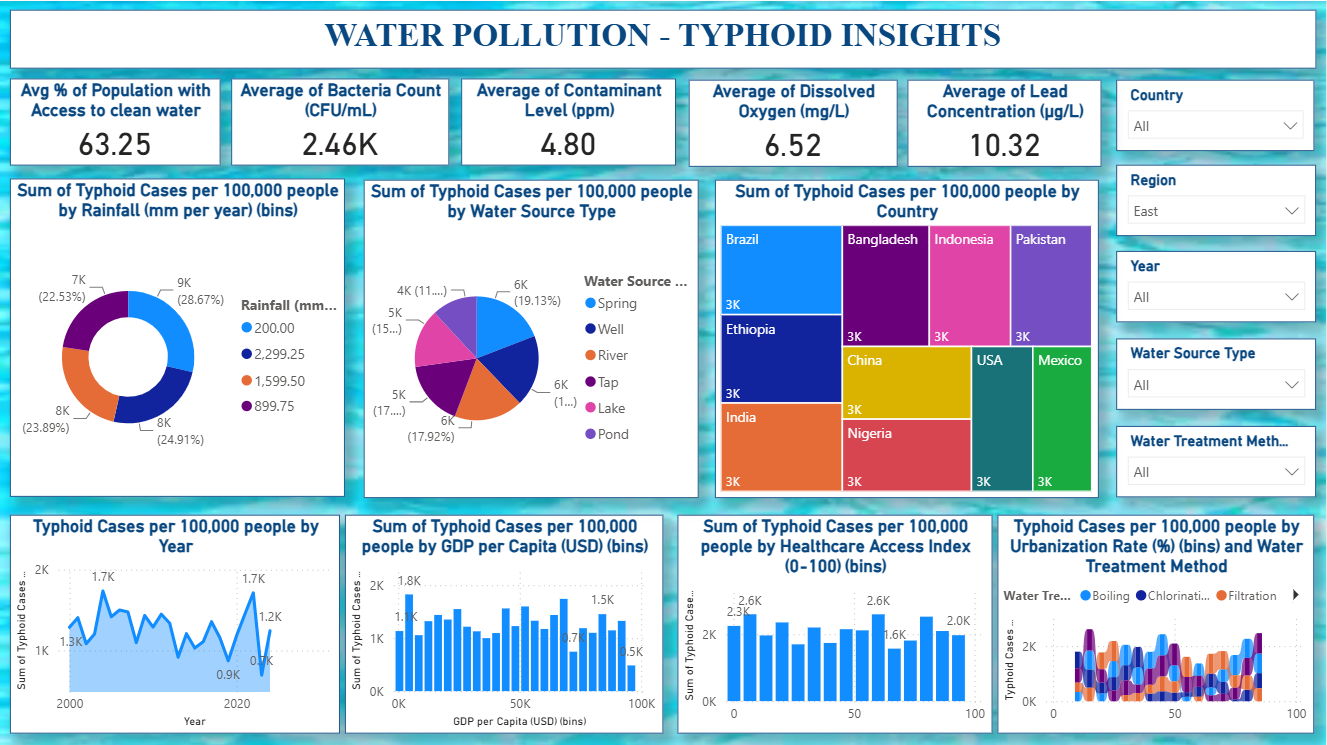

What the dashboard file says about the page in this screenshot:
{"tool":"powerbi","page":{"name":"Typhoid Cases Dashboard","canvas":[1280,720],"ordinal":0},"visuals":[{"type":"textbox","box":[9.7,8.4,1260.7,56.7],"z":0},{"type":"areaChart","title":"Typhoid Cases per 100,000 people by Year","fields":{"Category":["water_pollution_disease.Year"],"Y":["Sum(water_pollution_disease.Typhoid Cases per 100,000 people)"]},"box":[10,496.2,318.8,211.2],"z":1000},{"type":"slicer","fields":{"Values":["water_pollution_disease.Country"]},"box":[1077.1,75.7,191.4,68.6],"z":2000},{"type":"slicer","fields":{"Values":["water_pollution_disease.Region"]},"box":[1077.1,158.6,192.9,68.6],"z":3000},{"type":"card","title":"Avg % of Population with Access to clean water","fields":{"Values":["Avg(water_pollution_disease.Access to Clean Water (% of Population))"]},"box":[10,74.3,202.9,84.3],"z":4000},{"type":"card","title":"Average of Bacteria Count (CFU/mL)","fields":{"Values":["Avg(water_pollution_disease.Bacteria Count (CFU/mL))"]},"box":[222.9,74.3,210,84.3],"z":5000},{"type":"card","title":" Average of Contaminant Level (ppm)","fields":{"Values":["Avg(water_pollution_disease.Contaminant Level (ppm))"]},"box":[445.7,74.3,207.1,84.3],"z":6000},{"type":"slicer","fields":{"Values":["water_pollution_disease.Year"]},"box":[1077.1,241.4,192.9,68.6],"z":7000},{"type":"slicer","fields":{"Values":["water_pollution_disease.Water Source Type"]},"box":[1077.1,325.7,192.9,68.6],"z":8000},{"type":"slicer","fields":{"Values":["water_pollution_disease.Water Treatment Method"]},"box":[1077.1,410,192.9,68.6],"z":9000},{"type":"card","title":"Average of Dissolved Oxygen (mg/L)","fields":{"Values":["Avg(water_pollution_disease.Dissolved Oxygen (mg/L))"]},"box":[664.3,75.7,201.4,84.3],"z":10000},{"type":"card","title":"Average of Lead Concentration (µg/L)","fields":{"Values":["Avg(water_pollution_disease.Lead Concentration (µg/L))"]},"box":[875.7,75.7,187.1,84.3],"z":11000},{"type":"columnChart","fields":{"Category":["water_pollution_disease.GDP per Capita (USD) (bins)"],"Y":["Sum(water_pollution_disease.Typhoid Cases per 100,000 people)"]},"box":[332.9,495.7,307.1,211.4],"z":12000},{"type":"columnChart","fields":{"Y":["Sum(water_pollution_disease.Typhoid Cases per 100,000 people)"],"Category":["water_pollution_disease.Healthcare Access Index (0-100) (bins)"]},"box":[653.8,496.2,303.8,211.2],"z":13000},{"type":"ribbonChart","fields":{"Y":["Sum(water_pollution_disease.Typhoid Cases per 100,000 people)"],"Category":["water_pollution_disease.Urbanization Rate (%) (bins)"],"Series":["water_pollution_disease.Water Treatment Method"]},"box":[962.9,495.7,305.7,211.4],"z":14000},{"type":"donutChart","fields":{"Category":["water_pollution_disease.Rainfall (mm per year) (bins)"],"Y":["Sum(water_pollution_disease.Typhoid Cases per 100,000 people)"]},"box":[10,171.4,322.9,307.1],"z":15000},{"type":"pieChart","fields":{"Y":["Sum(water_pollution_disease.Typhoid Cases per 100,000 people)"],"Category":["water_pollution_disease.Water Source Type"]},"box":[351.4,172.9,322.9,307.1],"z":16000},{"type":"treemap","fields":{"Group":["water_pollution_disease.Country"],"Values":["Sum(water_pollution_disease.Typhoid Cases per 100,000 people)"]},"box":[690,172.9,370,307.1],"z":17000}]}

Visuals, with their boxes in screenshot pixels (x1, y1, x2, y2), scaled from the page's 1280x720 canvas onto the 1327x745 screenshot:
textbox: box(10, 9, 1317, 67)
"Typhoid Cases per 100,000 people by Year" areaChart: box(10, 513, 341, 732)
slicer - water_pollution_disease.Country: box(1117, 78, 1315, 149)
slicer - water_pollution_disease.Region: box(1117, 164, 1317, 235)
"Avg % of Population with Access to clean water" card: box(10, 77, 221, 164)
"Average of Bacteria Count (CFU/mL)" card: box(231, 77, 449, 164)
" Average of Contaminant Level (ppm)" card: box(462, 77, 677, 164)
slicer - water_pollution_disease.Year: box(1117, 250, 1317, 321)
slicer - water_pollution_disease.Water Source Type: box(1117, 337, 1317, 408)
slicer - water_pollution_disease.Water Treatment Method: box(1117, 424, 1317, 495)
"Average of Dissolved Oxygen (mg/L)" card: box(689, 78, 897, 166)
"Average of Lead Concentration (µg/L)" card: box(908, 78, 1102, 166)
columnChart - water_pollution_disease.GDP per Capita (USD) (bins) x Sum(water_pollution_disease.Typhoid Cases per 100,000 people): box(345, 513, 664, 732)
columnChart - Sum(water_pollution_disease.Typhoid Cases per 100,000 people) x water_pollution_disease.Healthcare Access Index (0-100) (bins): box(678, 513, 993, 732)
ribbonChart - Sum(water_pollution_disease.Typhoid Cases per 100,000 people) x water_pollution_disease.Urbanization Rate (%) (bins): box(998, 513, 1315, 732)
donutChart - water_pollution_disease.Rainfall (mm per year) (bins) x Sum(water_pollution_disease.Typhoid Cases per 100,000 people): box(10, 177, 345, 495)
pieChart - Sum(water_pollution_disease.Typhoid Cases per 100,000 people) x water_pollution_disease.Water Source Type: box(364, 179, 699, 497)
treemap - water_pollution_disease.Country x Sum(water_pollution_disease.Typhoid Cases per 100,000 people): box(715, 179, 1099, 497)
